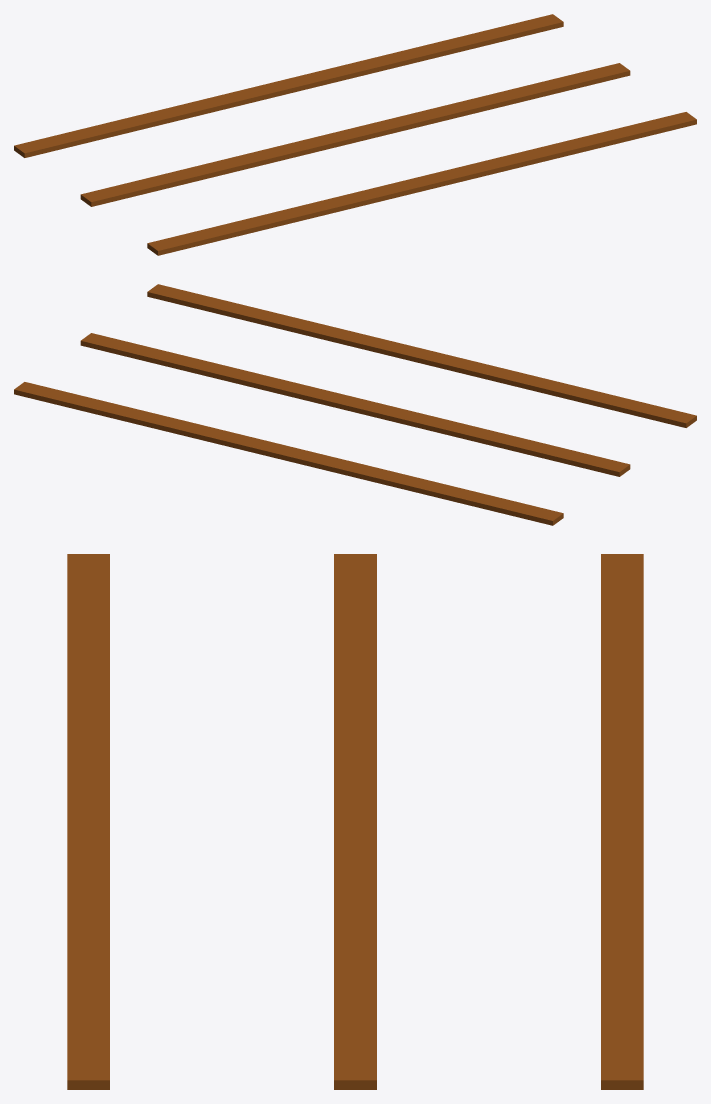
File: 56_L96_Grounding_Land_Pattern.fbx
3 renders of one model, top to bottom at view 1: azimuth 30°, elevation 25°; view 2: azimuth 150°, elevation 25°; view 3: azimuth 270°, elevation 25°, orthographic. The views are drawn at different scales.
Visible parts, largest first — view 1: L96_Grounding_Land_Pattern_001_Repairable_Copper_Segment, L96_Grounding_Land_Pattern_000_Repairable_Copper_Segment, L96_Grounding_Land_Pattern_002_Repairable_Copper_Segment; view 2: L96_Grounding_Land_Pattern_001_Repairable_Copper_Segment, L96_Grounding_Land_Pattern_000_Repairable_Copper_Segment, L96_Grounding_Land_Pattern_002_Repairable_Copper_Segment; view 3: L96_Grounding_Land_Pattern_000_Repairable_Copper_Segment, L96_Grounding_Land_Pattern_001_Repairable_Copper_Segment, L96_Grounding_Land_Pattern_002_Repairable_Copper_Segment.
Part boxes in pixels (x1,y1,x2,y2): L96_Grounding_Land_Pattern_001_Repairable_Copper_Segment: (80, 63, 630, 206); L96_Grounding_Land_Pattern_000_Repairable_Copper_Segment: (14, 14, 563, 157); L96_Grounding_Land_Pattern_002_Repairable_Copper_Segment: (147, 112, 696, 255); L96_Grounding_Land_Pattern_001_Repairable_Copper_Segment: (80, 333, 630, 476); L96_Grounding_Land_Pattern_000_Repairable_Copper_Segment: (14, 382, 563, 525); L96_Grounding_Land_Pattern_002_Repairable_Copper_Segment: (147, 284, 696, 427); L96_Grounding_Land_Pattern_000_Repairable_Copper_Segment: (601, 554, 643, 1089); L96_Grounding_Land_Pattern_001_Repairable_Copper_Segment: (334, 554, 376, 1089); L96_Grounding_Land_Pattern_002_Repairable_Copper_Segment: (67, 554, 109, 1089).
Bounding box in the file's own units: 0.007 × 6e-05 × 0.00324.
